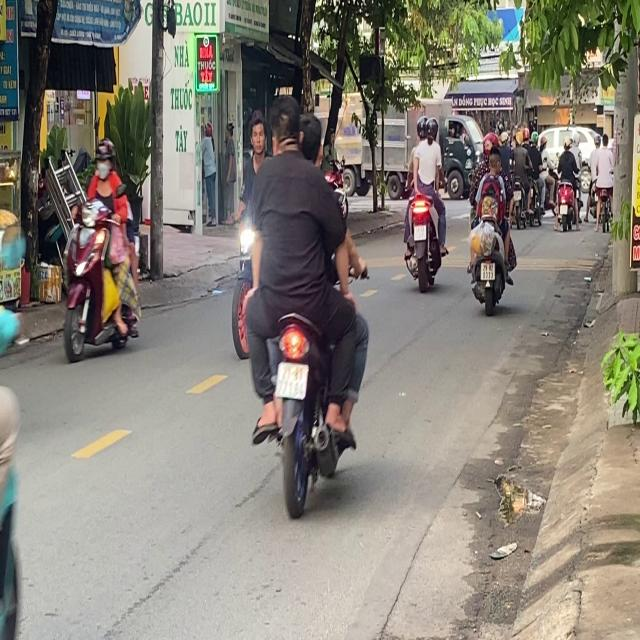helmet: (93, 138, 115, 176), (483, 131, 501, 161), (425, 115, 438, 140), (416, 114, 428, 140)
licenseplate: (236, 93, 371, 514), (60, 136, 142, 363), (466, 124, 516, 314), (401, 113, 447, 289)
motorcyclist: (268, 94, 303, 154), (299, 115, 324, 166), (486, 147, 503, 181)
nohelmet: (276, 362, 308, 398), (481, 262, 494, 280), (413, 224, 426, 240)
